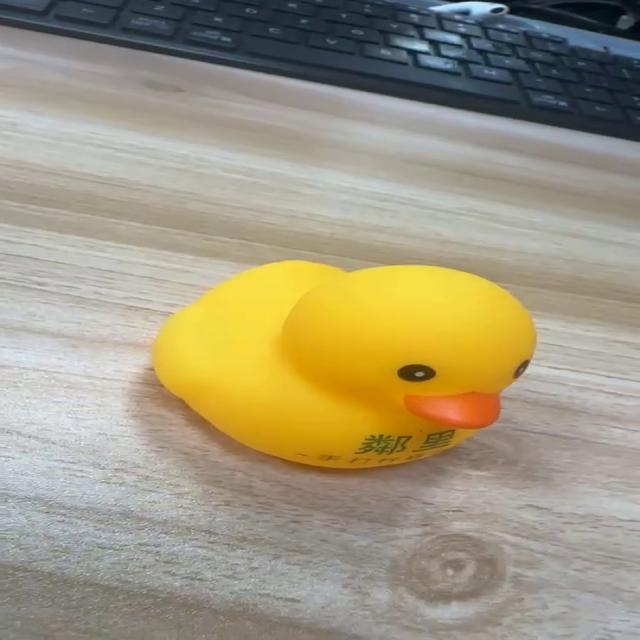yellow_duck: (148, 258, 538, 469)
